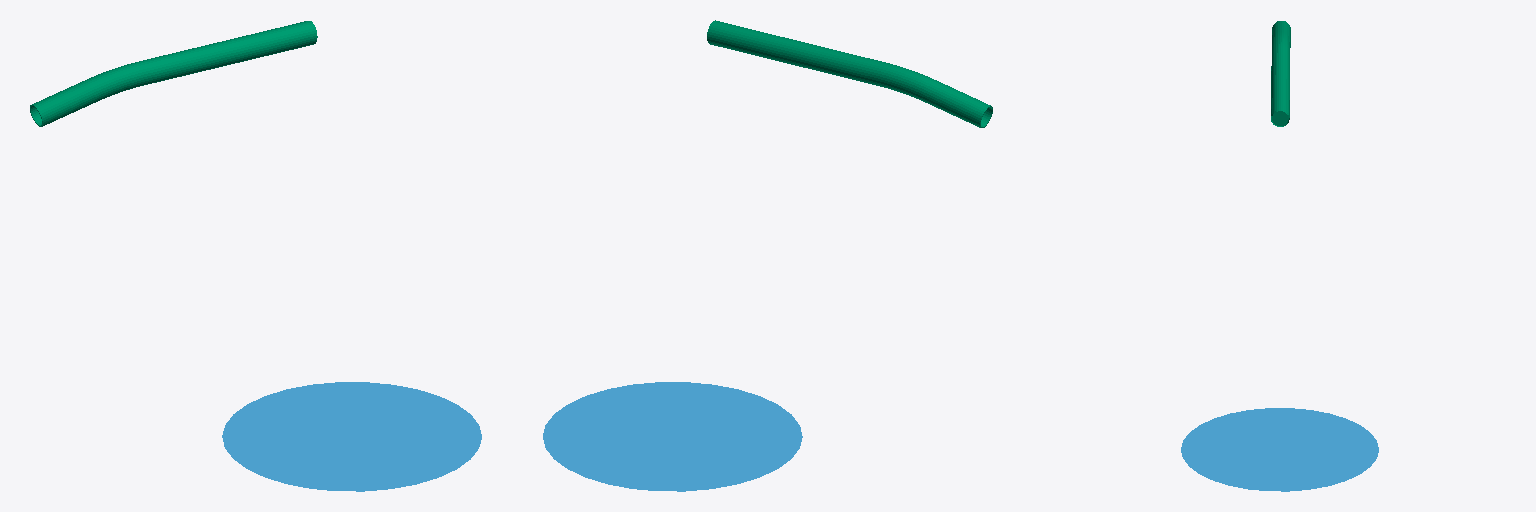
URDF robot description (partnet_u22479855-8ddc-49d6-8559-87b3746aff4b):
<?xml version="1.0" ?>
<robot name="partnet_u22479855-8ddc-49d6-8559-87b3746aff4b">
	<link name="base"/>
	<link name="link_0">
		<visual name="blade-4">
			<origin xyz="0.06188176700528213 -0.004338400065898895 0.0001239645836926817"/>
			<geometry>
				<mesh filename="textured_objs/original-7.obj" scale="0.2 0.2 0.2"/>
			</geometry>
		</visual>
		<visual name="handle-5">
			<origin xyz="0.06188176700528213 -0.004338400065898895 0.0001239645836926817"/>
			<geometry>
				<mesh filename="textured_objs/original-4.obj" scale="0.2 0.2 0.2"/>
			</geometry>
		</visual>
		<visual name="handle-5">
			<origin xyz="0.06188176700528213 -0.004338400065898895 0.0001239645836926817"/>
			<geometry>
				<mesh filename="textured_objs/original-5.obj" scale="0.2 0.2 0.2"/>
			</geometry>
		</visual>
		<collision>
			<origin xyz="0.06188176700528213 -0.004338400065898895 0.0001239645836926817"/>
			<geometry>
				<mesh filename="textured_objs/original-7.obj" scale="0.2 0.2 0.2"/>
			</geometry>
		</collision>
		<collision>
			<origin xyz="0.06188176700528213 -0.004338400065898895 0.0001239645836926817"/>
			<geometry>
				<mesh filename="textured_objs/original-4.obj" scale="0.2 0.2 0.2"/>
			</geometry>
		</collision>
		<collision>
			<origin xyz="0.06188176700528213 -0.004338400065898895 0.0001239645836926817"/>
			<geometry>
				<mesh filename="textured_objs/original-5.obj" scale="0.2 0.2 0.2"/>
			</geometry>
		</collision>
	</link>
	<joint name="joint_0" type="revolute">
		<origin xyz="-0.06188176700528213 0.004338400065898895 -0.0001239645836926817"/>
		<axis xyz="0 -1 0"/>
		<child link="link_0"/>
		<parent link="link_1"/>
		<limit lower="-0.8230972752405259" upper="-0.0"/>
	</joint>
	<link name="link_1">
		<visual name="screw-3">
			<origin xyz="0 0 0"/>
			<geometry>
				<mesh filename="textured_objs/original-1.obj" scale="0.2 0.2 0.2"/>
			</geometry>
		</visual>
		<visual name="blade-6">
			<origin xyz="0 0 0"/>
			<geometry>
				<mesh filename="textured_objs/original-14.obj" scale="0.2 0.2 0.2"/>
			</geometry>
		</visual>
		<visual name="handle-7">
			<origin xyz="0 0 0"/>
			<geometry>
				<mesh filename="textured_objs/original-11.obj" scale="0.2 0.2 0.2"/>
			</geometry>
		</visual>
		<visual name="handle-7">
			<origin xyz="0 0 0"/>
			<geometry>
				<mesh filename="textured_objs/original-12.obj" scale="0.2 0.2 0.2"/>
			</geometry>
		</visual>
		<collision>
			<origin xyz="0 0 0"/>
			<geometry>
				<mesh filename="textured_objs/original-1.obj" scale="0.2 0.2 0.2"/>
			</geometry>
		</collision>
		<collision>
			<origin xyz="0 0 0"/>
			<geometry>
				<mesh filename="textured_objs/original-14.obj" scale="0.2 0.2 0.2"/>
			</geometry>
		</collision>
		<collision>
			<origin xyz="0 0 0"/>
			<geometry>
				<mesh filename="textured_objs/original-11.obj" scale="0.2 0.2 0.2"/>
			</geometry>
		</collision>
		<collision>
			<origin xyz="0 0 0"/>
			<geometry>
				<mesh filename="textured_objs/original-12.obj" scale="0.2 0.2 0.2"/>
			</geometry>
		</collision>
	</link>
	<joint name="joint_1" type="fixed">
		<origin rpy="1.570796326794897 0 -1.570796326794897" xyz="0 0 0"/>
		<child link="link_1"/>
		<parent link="base"/>
	</joint>
</robot>

--- What the picture shows (computed from the rendered views, not written in the file) ---
The picture shows the robot from 3 angles, left to right: view 1: azimuth 30°, elevation 25°; view 2: azimuth 150°, elevation 25°; view 3: azimuth 270°, elevation 25°; orthographic projection.
Model partnet_u22479855-8ddc-49d6-8559-87b3746aff4b with 3 links and 2 joints (1 revolute, 1 fixed), rooted at base, posed all joints at 0.
Links seen in each view (by area): view 1: link_0, link_1; view 2: link_0, link_1; view 3: link_0, link_1.
Link boxes in pixels (x1,y1,x2,y2): link_0: [222, 382, 481, 491]; link_1: [30, 21, 317, 126]; link_0: [543, 382, 802, 491]; link_1: [707, 20, 992, 127]; link_0: [1181, 408, 1378, 491]; link_1: [1271, 21, 1290, 126].
Bounding box of the posed robot: 0.1142 × 0.0599 × 0.1081 m (x, y, z).
Meshes: 7 distinct files referenced, 4 mesh visuals loaded (4 OBJ); not drawn: 3 (reference not matched to a file when rendering).